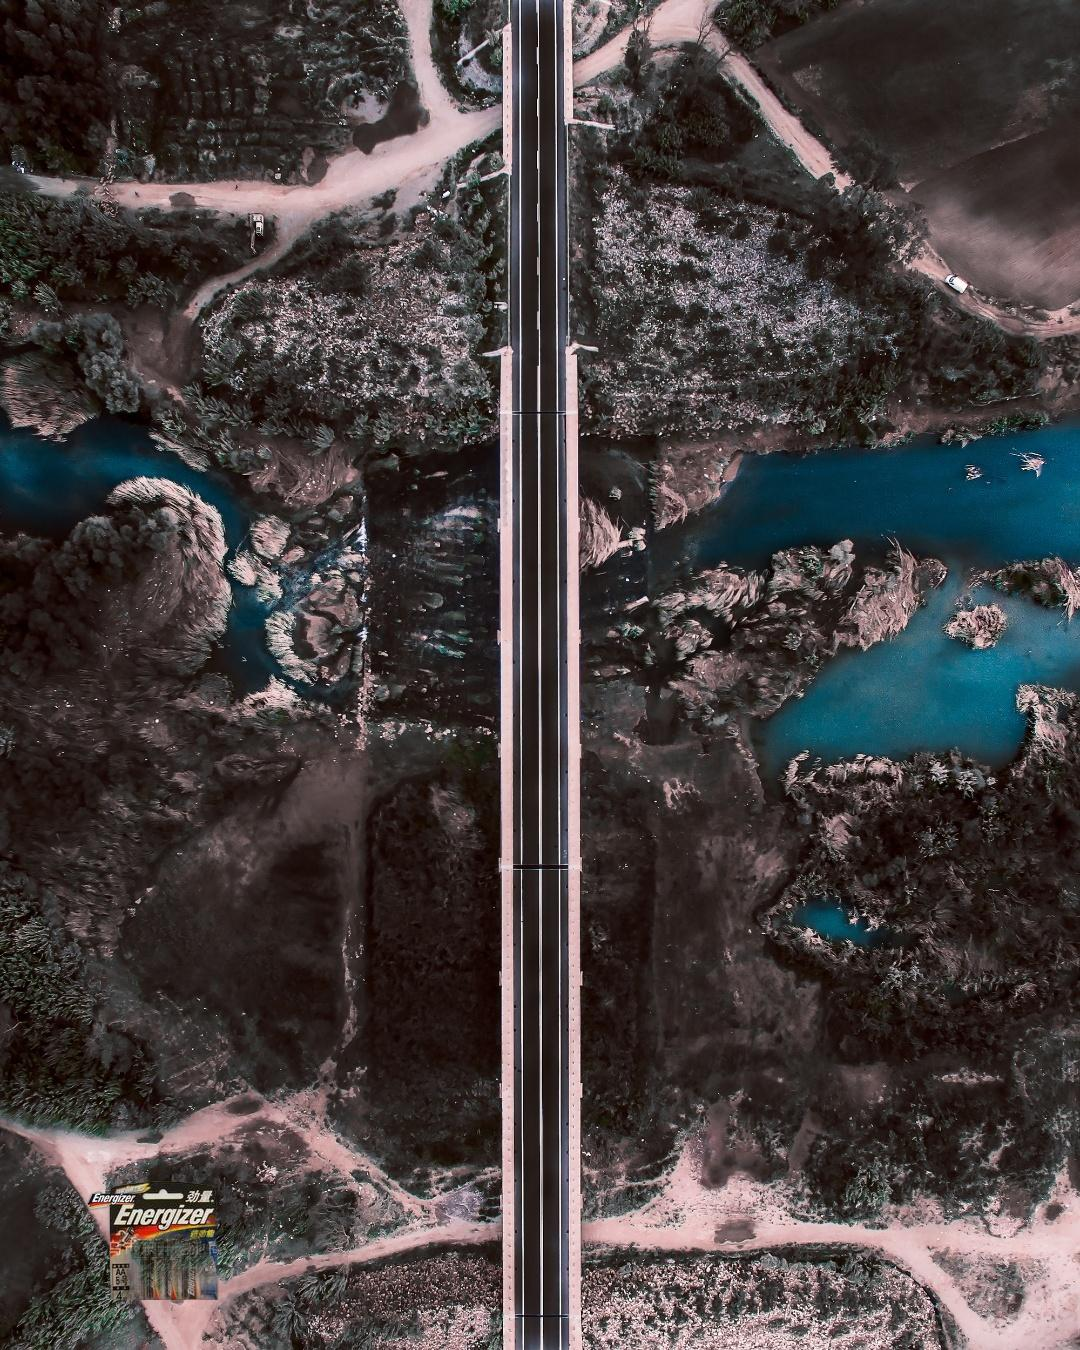battery: (82, 1178, 231, 1300)
